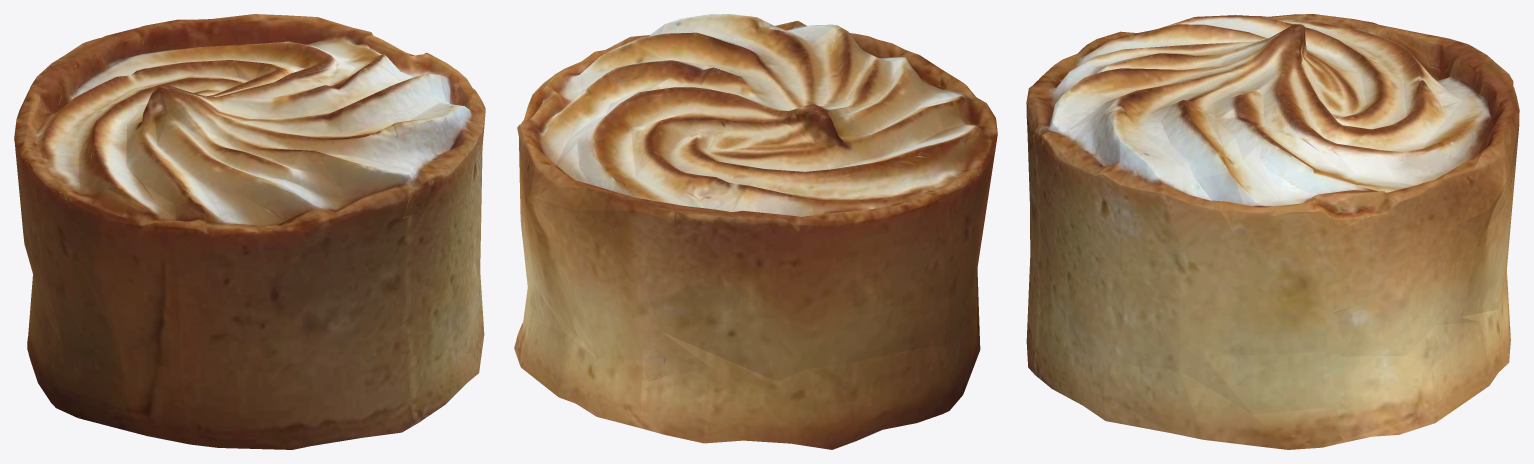
File: pie.glb
3 renders of one model, left to right at view 1: azimuth 30°, elevation 25°; view 2: azimuth 150°, elevation 25°; view 3: azimuth 270°, elevation 25°, orthographic. The views are drawn at different scales.
Visible parts, largest first — view 1: Object_2; view 2: Object_2; view 3: Object_2.
Boxes of the visible parts, x1,y1,x2,y2 form: Object_2: (14,14,485,449); Object_2: (514,14,997,449); Object_2: (1026,14,1519,449).
Bounding box in the file's own units: 0.2598 × 0.1686 × 0.2568.
Materials: 1 (1 with a texture image).
